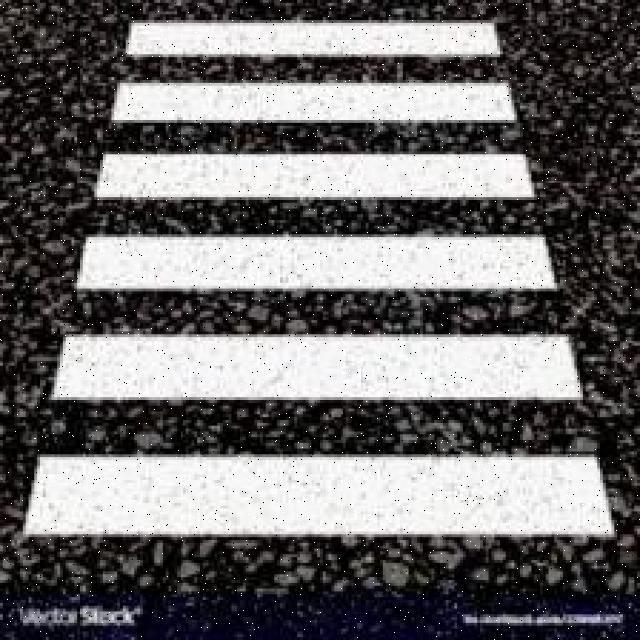crosswalk: (2, 3, 581, 635)
